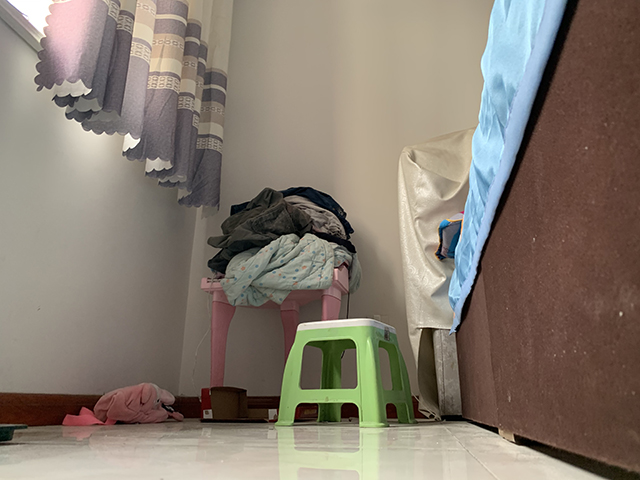bed: (395, 1, 639, 480)
curtain: (42, 1, 238, 210)
stool: (273, 317, 419, 429)
